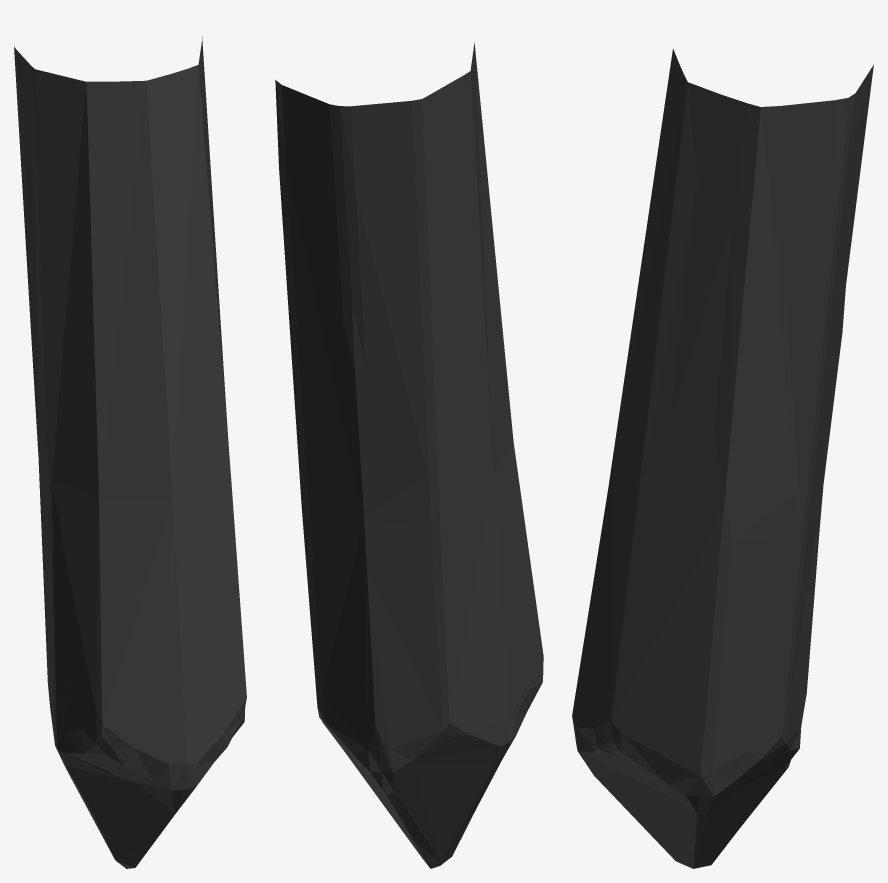
Rendered from cow_shells_split.glb.
3 views of the same model, side by side, from view 1: azimuth 30°, elevation 25°; view 2: azimuth 150°, elevation 25°; view 3: azimuth 270°, elevation 25° (orthographic). The views are drawn at different scales.
Parts seen in each view (by area): view 1: cow_shells_split; view 2: cow_shells_split; view 3: cow_shells_split.
Boxes of the visible parts, x1,y1,x2,y2 form: cow_shells_split: (14, 36, 246, 868); cow_shells_split: (275, 42, 543, 868); cow_shells_split: (572, 48, 873, 868).
Size of the model in its own units: 0.0269 by 0.1107 by 0.0367.
Materials: 1 (1 with a texture image).
